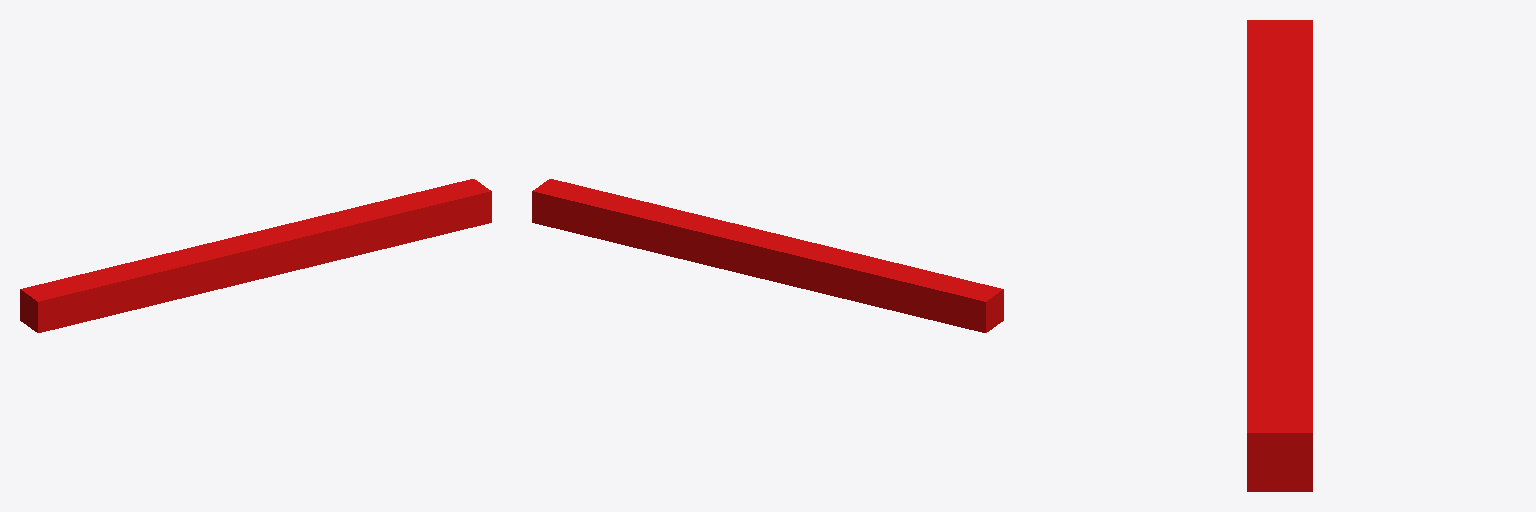
The robot description file, URDF, robot "ax12a_with_long_arm_jointstates":
<?xml version="1.0"?>
<robot name="ax12a_with_long_arm_jointstates">

  <link name="base_link"/>

  <!-- 모터 바디(고정 메쉬) -->
  <link name="motor_body">
    <visual>
      <origin xyz="0 0 0" rpy="0 0 0"/>
      <geometry>
        <mesh filename="package://YOUR_PACKAGE_NAME/meshes/AX_12A.STL"
              scale="0.001 0.001 0.001"/>
      </geometry>
      <material name="dark_gray">
        <color rgba="0.25 0.25 0.25 1.0"/>
      </material>
    </visual>
  </link>

  <joint name="base_to_body" type="fixed">
    <parent link="base_link"/>
    <child link="motor_body"/>
    <origin xyz="0 0 0" rpy="0 0 0"/>
  </joint>

  <!-- 출력축 기준 프레임(비주얼 없음) -->
  <link name="output_frame"/>

  <!-- 🔧 여기 xyz를 조절해서 "모터 위 출력축 위치"로 맞추면 됨 -->
  <joint name="body_to_output" type="fixed">
    <parent link="motor_body"/>
    <child link="output_frame"/>
    <origin xyz="0 0 0.025" rpy="0 0 0"/>
  </joint>

  <!-- 길게 보이는 레버(arm) -->
  <link name="arm_link">
    <visual>
      <!-- 길이 L=0.30m면 축에서 +X로 뻗게: origin x = L/2 -->
      <origin xyz="0.15 0 0.01" rpy="0 0 0"/>
      <geometry>
        <box size="0.30 0.02 0.02"/>
      </geometry>
      <material name="red">
        <color rgba="0.9 0.1 0.1 1.0"/>
      </material>
    </visual>
  </link>

  <!-- ✅ 핵심: revolute + limit (joint_state_publisher_gui가 슬라이더 만들 수 있음) -->
  <joint name="ax12a_joint" type="revolute">
    <parent link="output_frame"/>
    <child link="arm_link"/>
    <origin xyz="0 0 0" rpy="0 0 0"/>

    <!-- 회전축 -->
    <axis xyz="0 0 1"/>

    <!-- AX-12A: 300도 ≈ ±150도 = ±2.61799 rad -->
    <limit lower="-2.6179939" upper="2.6179939" effort="2.0" velocity="6.0"/>

    <!-- (옵션) RViz엔 영향 없고, 시뮬에서만 도움 -->
    <!-- <dynamics damping="0.1" friction="0.0"/> -->
  </joint>

</robot>

--- What the picture shows (computed from the rendered views, not written in the file) ---
The picture shows the robot from 3 angles, left to right: view 1: azimuth 30°, elevation 25°; view 2: azimuth 150°, elevation 25°; view 3: azimuth 270°, elevation 25°; orthographic projection.
Model ax12a_with_long_arm_jointstates with 4 links and 3 joints (1 revolute, 2 fixed), rooted at base_link, posed every joint at zero.
Visible links, largest first — view 1: arm_link; view 2: arm_link; view 3: arm_link.
Link boxes in pixels (box(x1,y1,x2,y2)): arm_link: box(20, 179, 491, 332); arm_link: box(532, 179, 1003, 332); arm_link: box(1247, 20, 1312, 491).
Size in the robot's own frame: 0.3 by 0.02 by 0.02 metres.
Meshes: 1 distinct files referenced, 0 mesh visuals loaded (none loaded); not drawn: 1 (reference not matched to a file when rendering).
